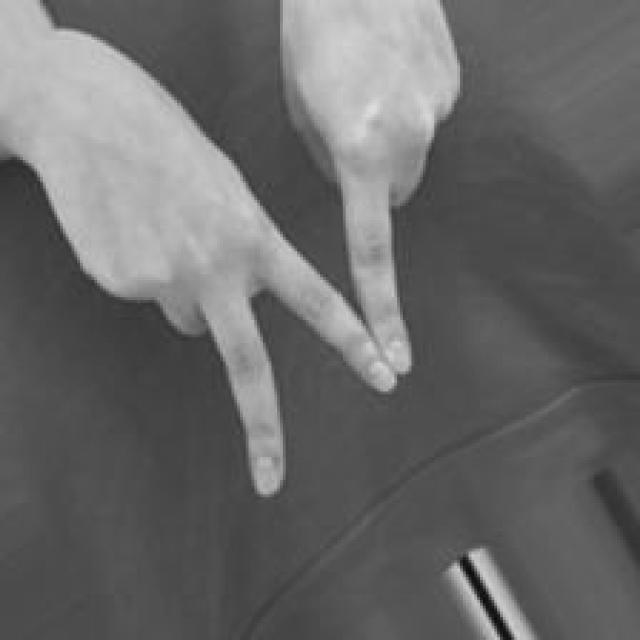N: (3, 0, 464, 498)
